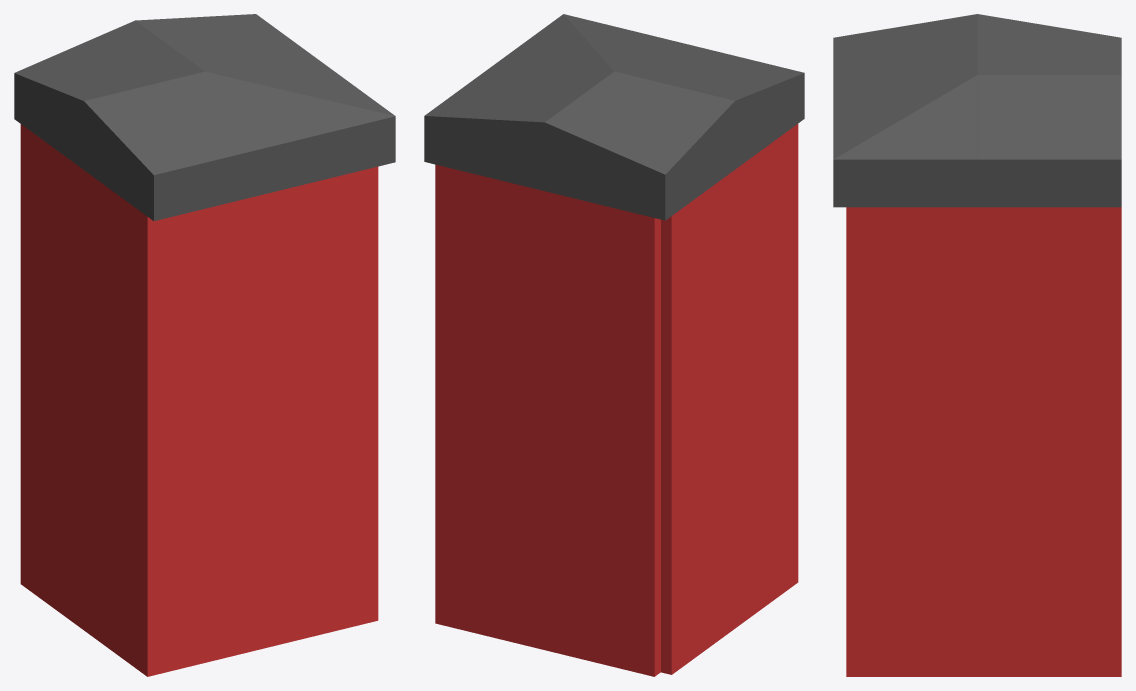
File: LedgeCorner.fbx
3 renders of one model, left to right at view 1: azimuth 30°, elevation 25°; view 2: azimuth 150°, elevation 25°; view 3: azimuth 270°, elevation 25°, orthographic. The views are drawn at different scales.
Parts seen in each view (by area): view 1: LedgeCorner; view 2: LedgeCorner; view 3: LedgeCorner.
Part boxes in pixels (x1,y1,x2,y2): LedgeCorner: [14, 14, 395, 676]; LedgeCorner: [424, 14, 804, 676]; LedgeCorner: [833, 14, 1121, 676].
Bounding box in the file's own units: 55 × 115 × 55.
